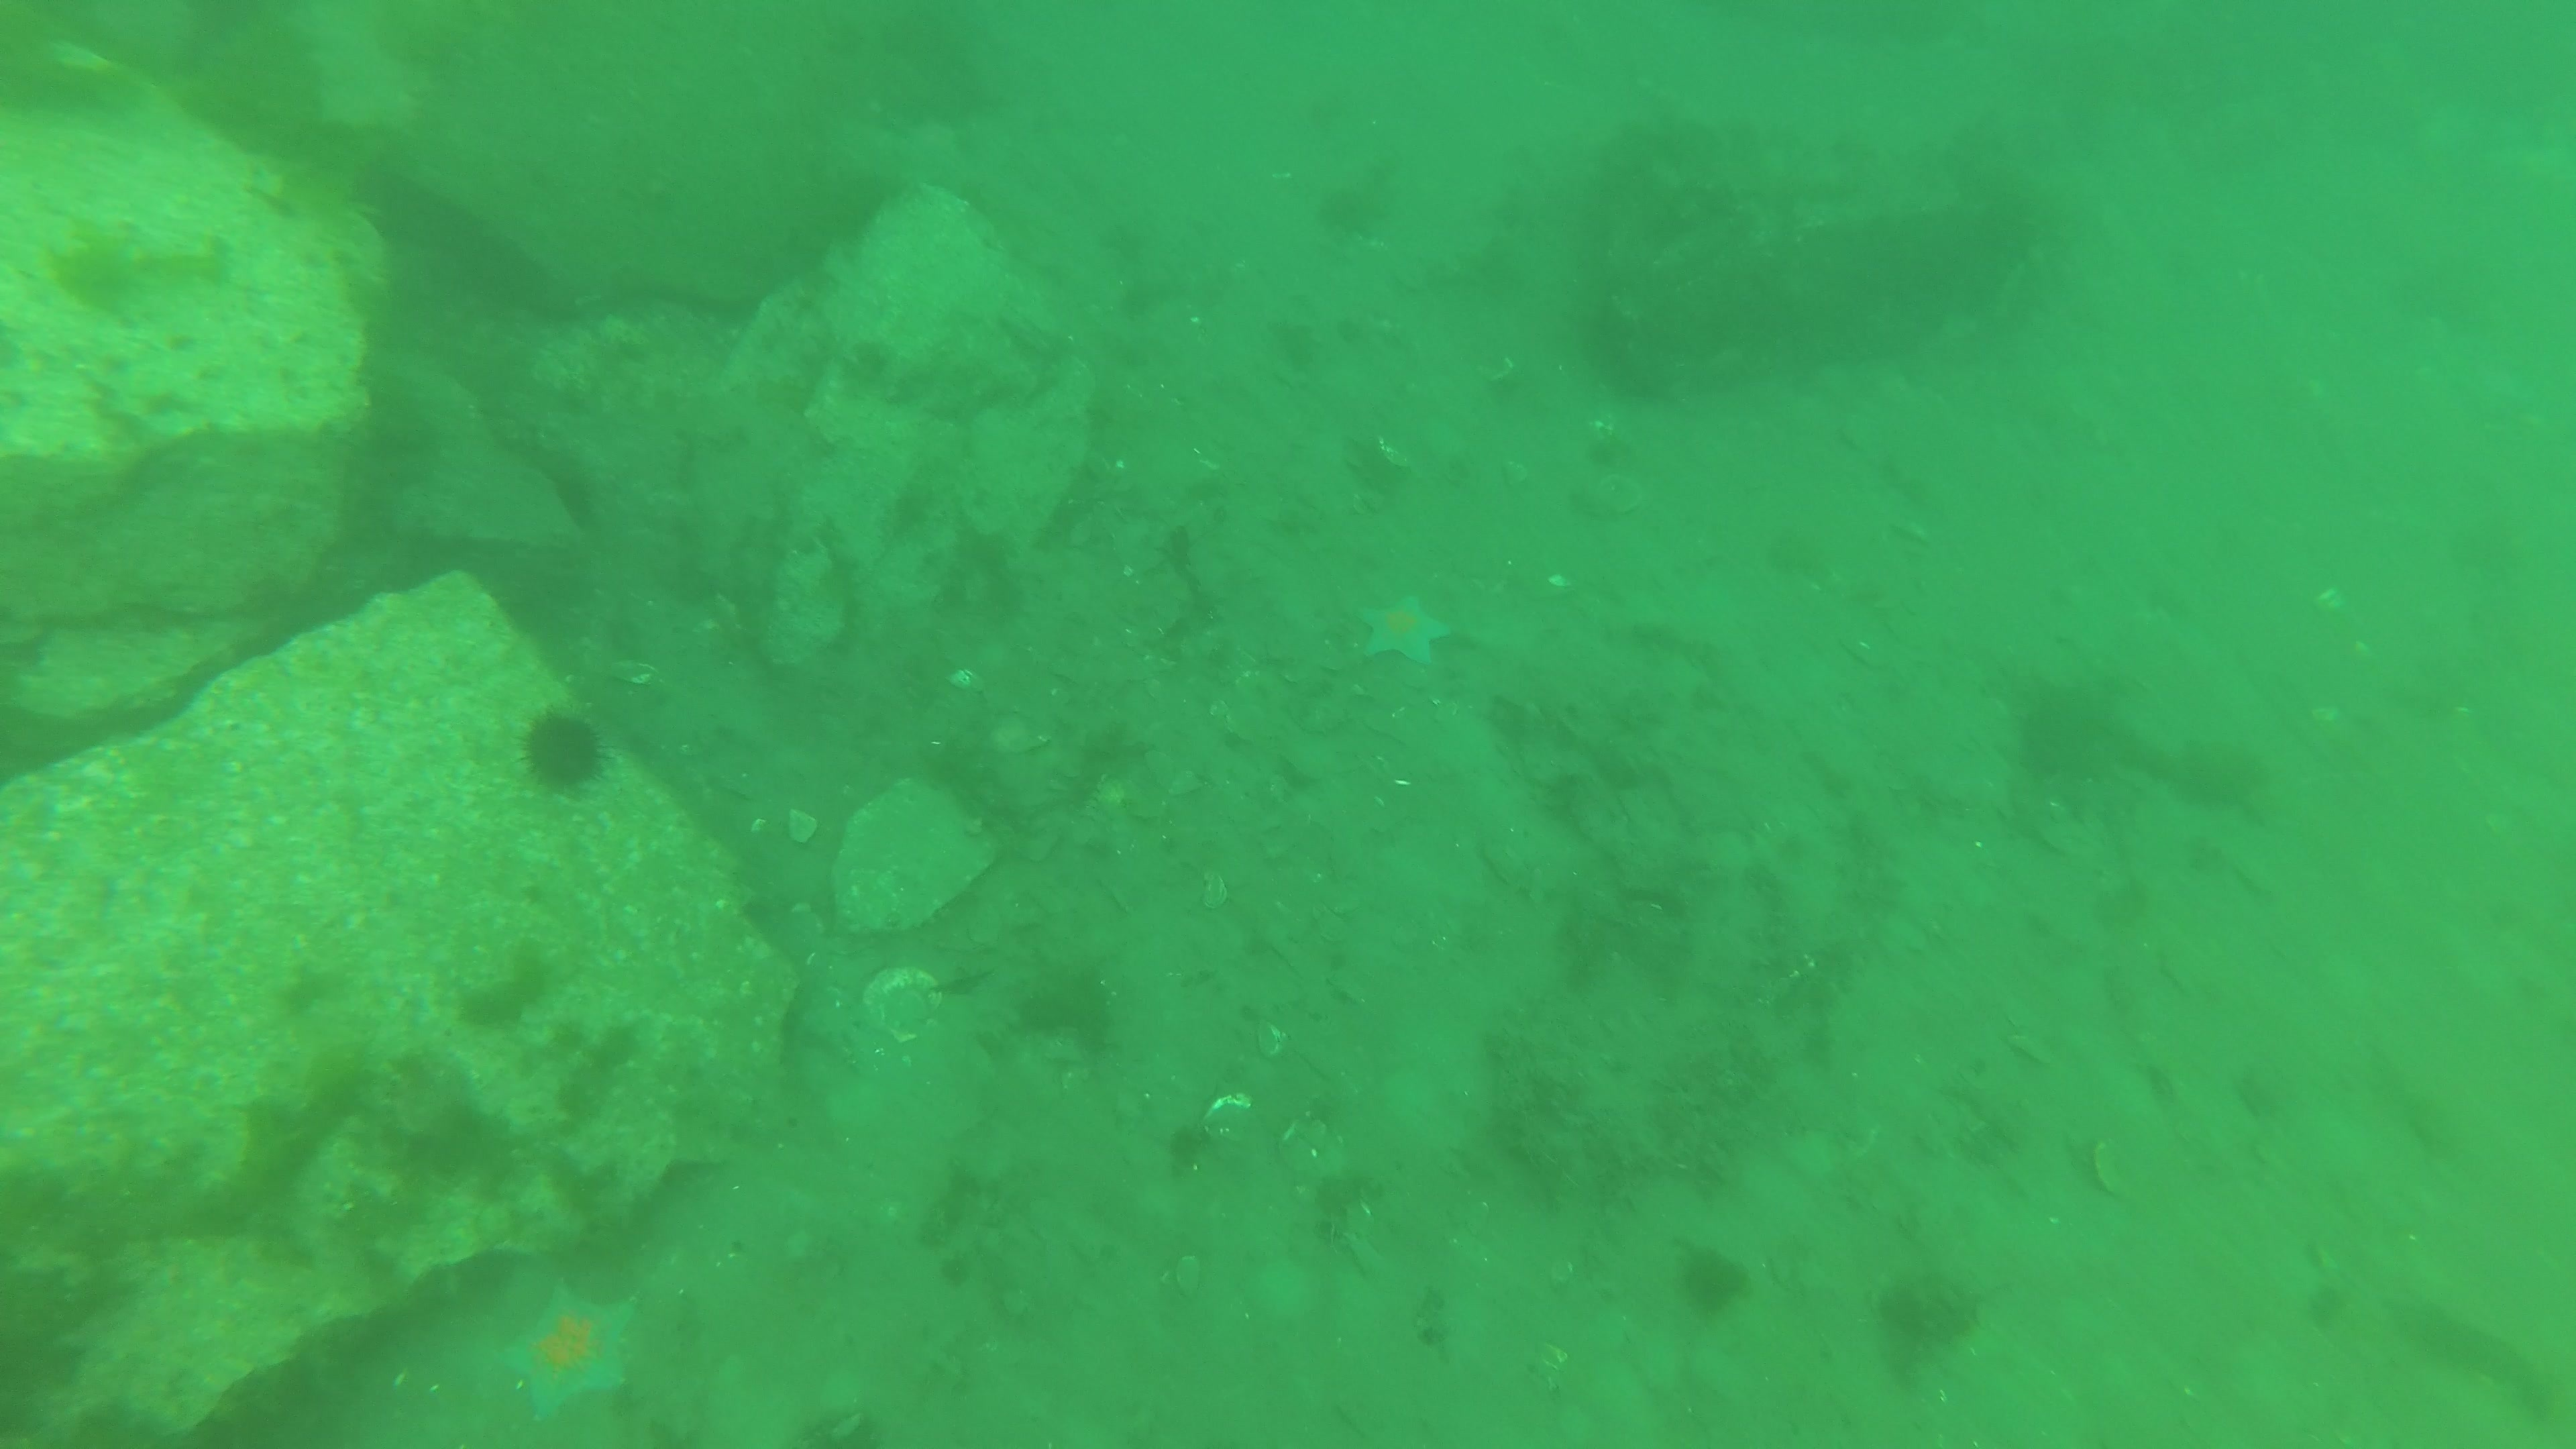echinus: (518, 706, 612, 800), (495, 437, 596, 517)
starfish: (492, 1281, 639, 1422), (1355, 587, 1451, 672), (902, 117, 970, 175)
